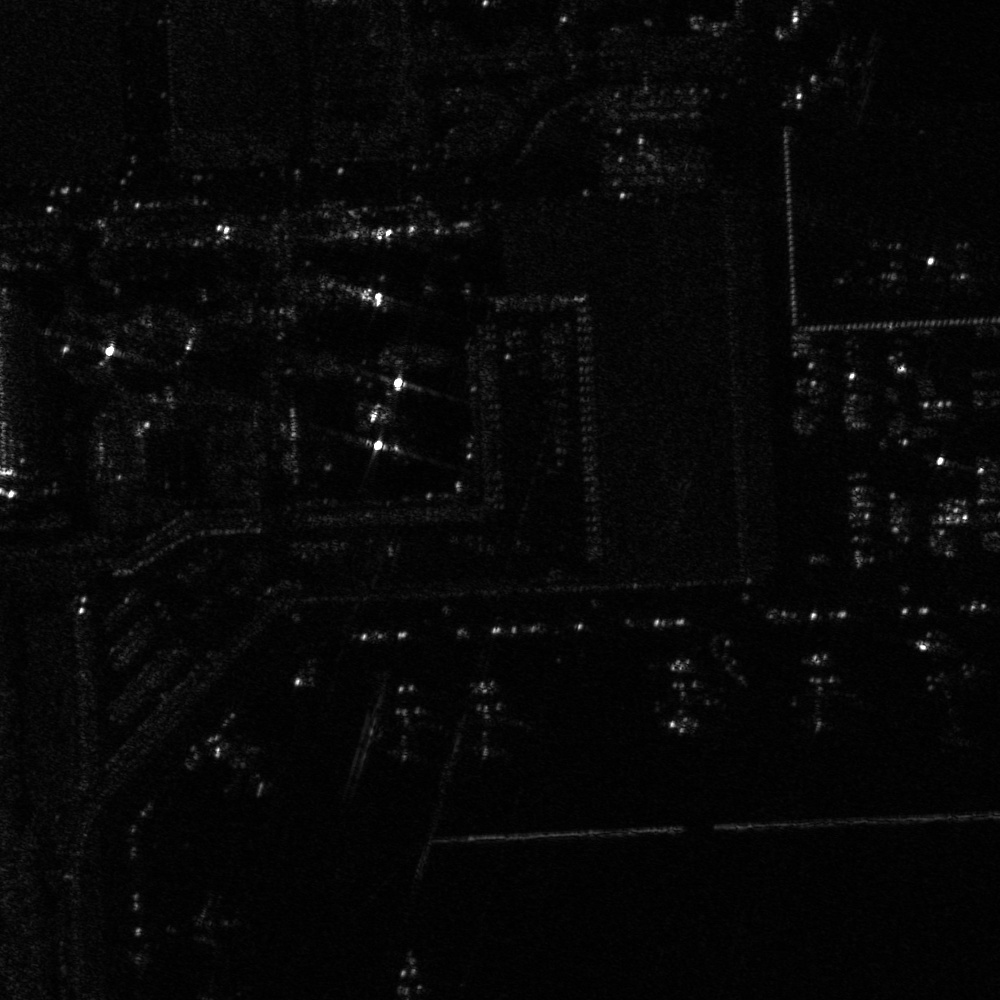A220: (157, 891, 244, 952), (212, 739, 279, 800)
ARJ21: (868, 232, 918, 295)
Boeing737: (768, 641, 870, 740), (905, 626, 986, 737), (454, 668, 536, 771), (360, 676, 446, 767)
other: (645, 651, 728, 741), (803, 33, 885, 100), (934, 233, 994, 295)
